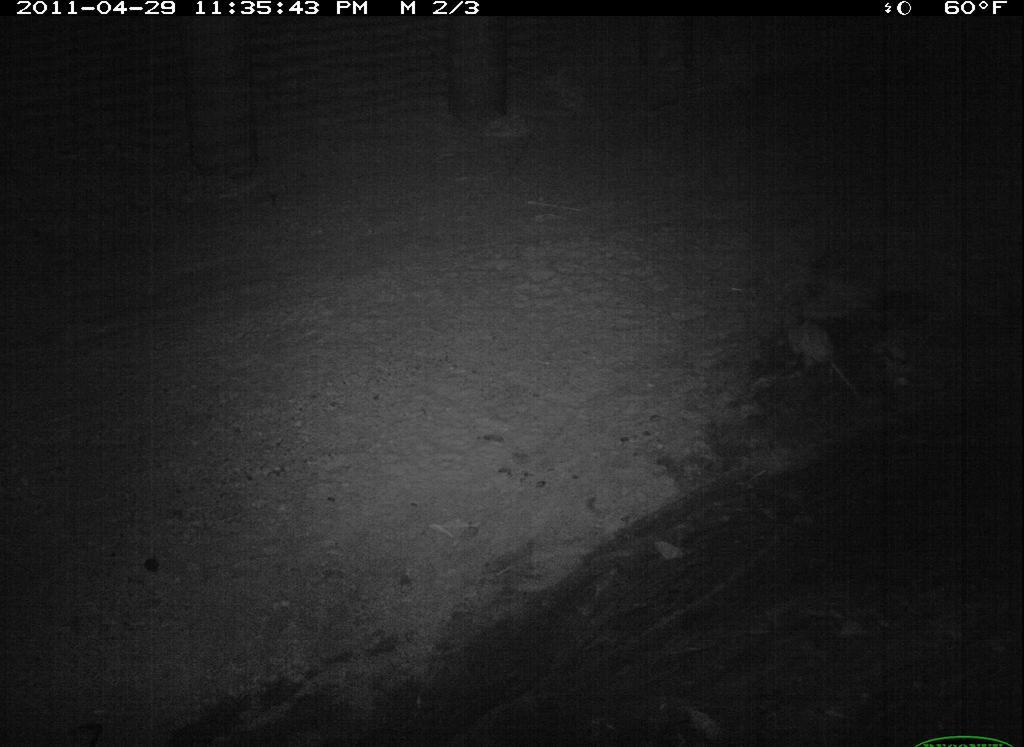opossum: (766, 306, 872, 414)
